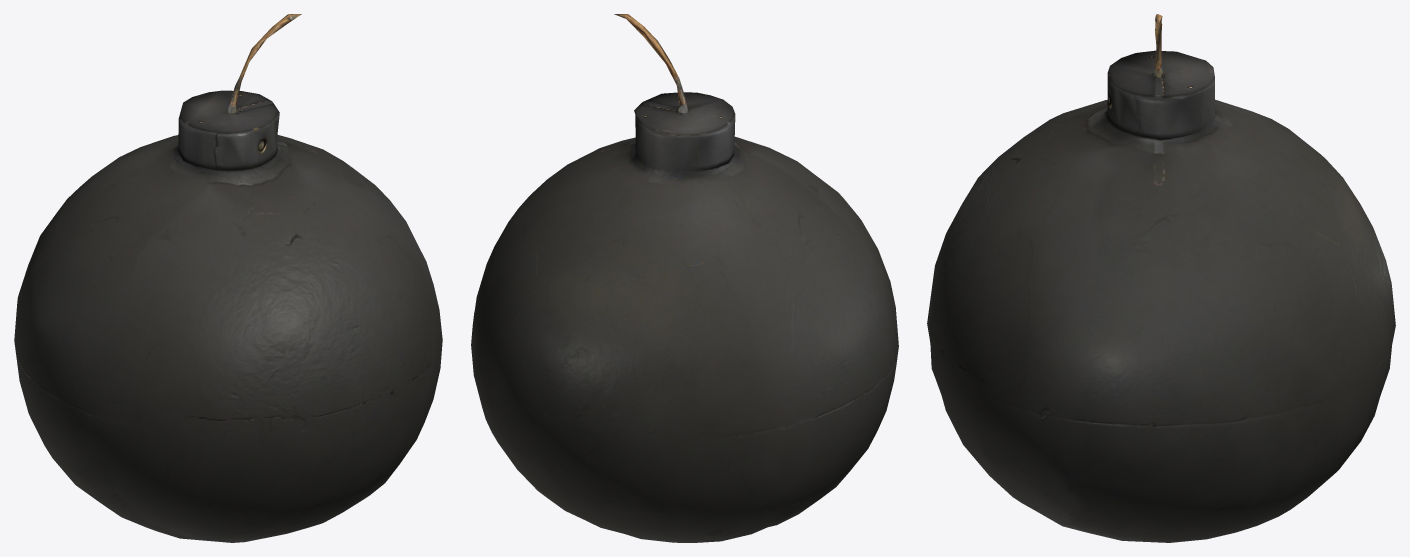
Rendered from Cartoon_Bomb_0408235548_texture.glb.
3 views of the same model, side by side, from view 1: azimuth 30°, elevation 25°; view 2: azimuth 150°, elevation 25°; view 3: azimuth 270°, elevation 25° (orthographic). The views are drawn at different scales.
Parts seen in each view (by area): view 1: Mesh1; view 2: Mesh1; view 3: Mesh1.
Part boxes in pixels (box(x1,y1,x2,y2)): Mesh1: box(14, 14, 442, 542); Mesh1: box(471, 14, 898, 542); Mesh1: box(927, 14, 1395, 542).
Size of the model in its own units: 1.6 by 2 by 1.6.
Materials: 1 (1 with a texture image).
